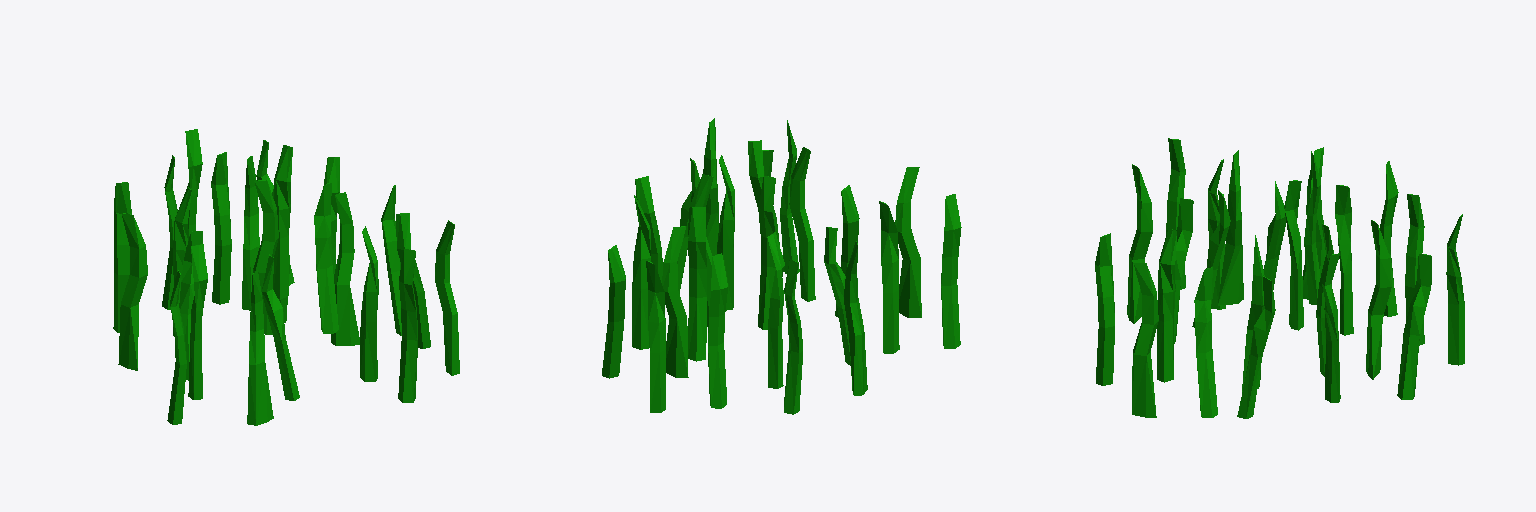
The model's file is grass2.obj.
The picture shows the model from 3 angles: view 1: azimuth 30°, elevation 25°; view 2: azimuth 150°, elevation 25°; view 3: azimuth 270°, elevation 25°; orthographic projection.
Parts seen in each view (by area): view 1: grass_Circle; view 2: grass_Circle; view 3: grass_Circle.
Part boxes in pixels (x1,y1,x2,y2): grass_Circle: (113, 129, 459, 425); grass_Circle: (602, 118, 961, 414); grass_Circle: (1095, 138, 1464, 418).
Size of the model in its own units: 0.4998 by 0.3271 by 0.5747.